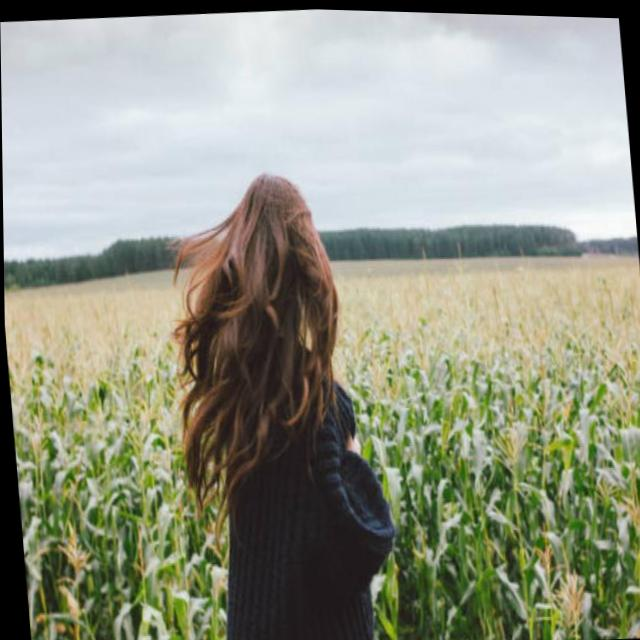no helmet: (219, 162, 331, 356)
